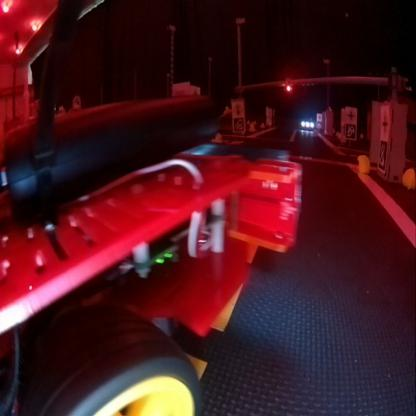Duckie: (402, 168, 414, 189), (357, 154, 369, 173)
Duckiebot: (4, 92, 298, 415)
Intersection sign: (380, 109, 386, 135), (346, 108, 355, 121)
QR code: (377, 142, 387, 171), (232, 118, 244, 131), (345, 123, 355, 138)
Signal sign: (232, 102, 243, 116)
